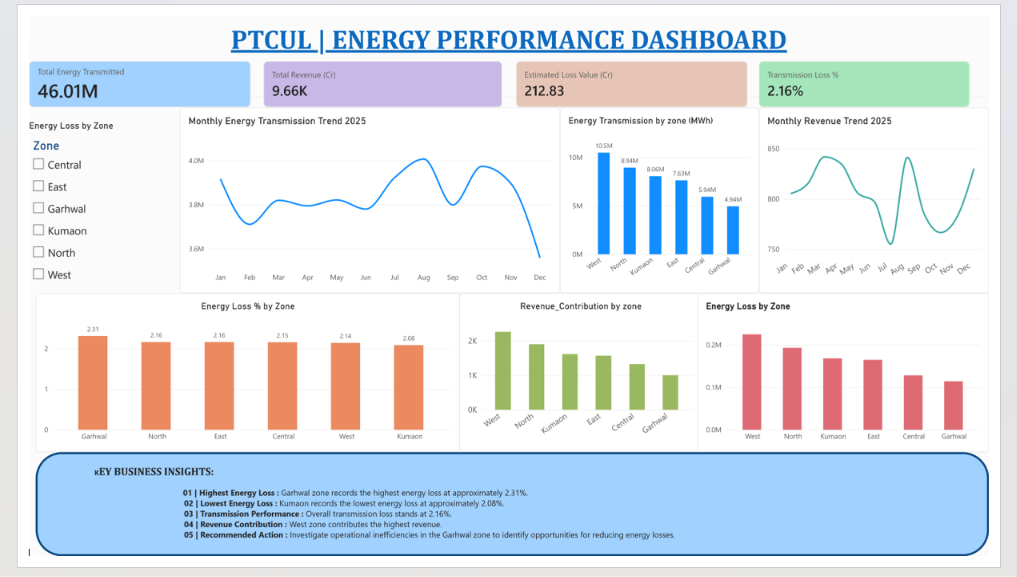

What the dashboard file says about the page in this screenshot:
{"tool":"powerbi","page":{"name":"Page 1","canvas":[1920,1080],"ordinal":0},"visuals":[{"type":"cardVisual","title":"Total Energy Transmitted","fields":{"Data":["ptcul_clean.Total Energy Transmitted"]},"box":[0,90.5,443.4,92.3],"z":0},{"type":"cardVisual","fields":{"Data":["ptcul_clean.Transmission Loss %"]},"box":[1460.4,90.5,421.7,92.3],"z":1000},{"type":"cardVisual","fields":{"Data":["ptcul_clean.Total Revenue (Cr)"]},"box":[468.7,90.5,477.8,92.3],"z":2000},{"type":"cardVisual","fields":{"Data":["ptcul_clean.Estimated Loss Value (Cr)"]},"box":[973.6,90.5,463.3,92.3],"z":3000},{"type":"textbox","box":[0,14.4,1920.4,94.7],"z":4000},{"type":"lineChart","title":"Monthly Energy Transmission Trend 2025","fields":{"Category":["Calendar.Month"],"Y":["Sum(ptcul_clean.Energy_Transmitted_MWh)"]},"box":[302.2,182.8,760.1,371],"z":5000},{"type":"clusteredColumnChart","title":"Energy Transmission by zone (MWh)","fields":{"Category":["ptcul_clean.Zone"],"Y":["Sum(ptcul_clean.Energy_Transmitted_MWh)"]},"box":[1062.3,182.8,398.1,371],"z":6000},{"type":"clusteredColumnChart","title":" Revenue_Contribution by zone ","fields":{"Category":["ptcul_clean.Zone"],"Y":["Sum(ptcul_clean.Revenue_Cr)"]},"box":[861.4,553.8,483.2,318.5],"z":7000},{"type":"lineChart","title":"Monthly Revenue Trend 2025","fields":{"Category":["Calendar.Month"],"Y":["Sum(ptcul_clean.Revenue_Cr)"]},"box":[1460.4,182.8,459.7,371],"z":8000},{"type":"slicer","title":"Energy Loss by Zone ","fields":{"Values":["ptcul_clean.Zone"]},"box":[0,208.1,246.1,371],"z":9000},{"type":"clusteredColumnChart","title":"Energy Loss by Zone","fields":{"Category":["ptcul_clean.Zone"],"Y":["ptcul_clean.Energy Lost"]},"box":[1337.3,553.8,582.7,318.5],"z":10000},{"type":"clusteredColumnChart","title":"Energy Loss % by Zone ","fields":{"Category":["ptcul_clean.Zone"],"Y":["Calendar.Energy Loss % by Zone New"]},"box":[12.7,553.8,848.7,318.5],"z":11000},{"type":"textbox","box":[303,898,223,150],"z":12000},{"type":"textbox","box":[0,872.3,1205.2,208.1],"z":13000},{"type":"shape","box":[12.7,872.3,1907.4,208.1],"z":14000},{"type":"textbox","box":[100,100,300,300],"z":15000},{"type":"textbox","box":[100,100,300,300],"z":16000},{"type":"textbox","box":[65.1,897.6,1816.9,166.5],"z":18000}]}

Visuals, with their boxes in screenshot pixels (x1, y1, x2, y2), scaled from the page's 1920x1080 canvas onto the 1017x577 screenshot:
"Total Energy Transmitted" cardVisual: box=[0, 48, 235, 98]
cardVisual - ptcul_clean.Transmission Loss %: box=[774, 48, 997, 98]
cardVisual - ptcul_clean.Total Revenue (Cr): box=[248, 48, 501, 98]
cardVisual - ptcul_clean.Estimated Loss Value (Cr): box=[516, 48, 761, 98]
textbox: box=[0, 8, 1016, 58]
"Monthly Energy Transmission Trend 2025" lineChart: box=[160, 98, 563, 296]
"Energy Transmission by zone (MWh)" clusteredColumnChart: box=[563, 98, 774, 296]
" Revenue_Contribution by zone " clusteredColumnChart: box=[456, 296, 712, 466]
"Monthly Revenue Trend 2025" lineChart: box=[774, 98, 1016, 296]
"Energy Loss by Zone " slicer: box=[0, 111, 130, 309]
"Energy Loss by Zone" clusteredColumnChart: box=[708, 296, 1016, 466]
"Energy Loss % by Zone " clusteredColumnChart: box=[7, 296, 456, 466]
textbox: box=[160, 480, 279, 560]
textbox: box=[0, 466, 638, 576]
shape: box=[7, 466, 1016, 576]
textbox: box=[53, 53, 212, 214]
textbox: box=[53, 53, 212, 214]
textbox: box=[34, 480, 997, 569]
